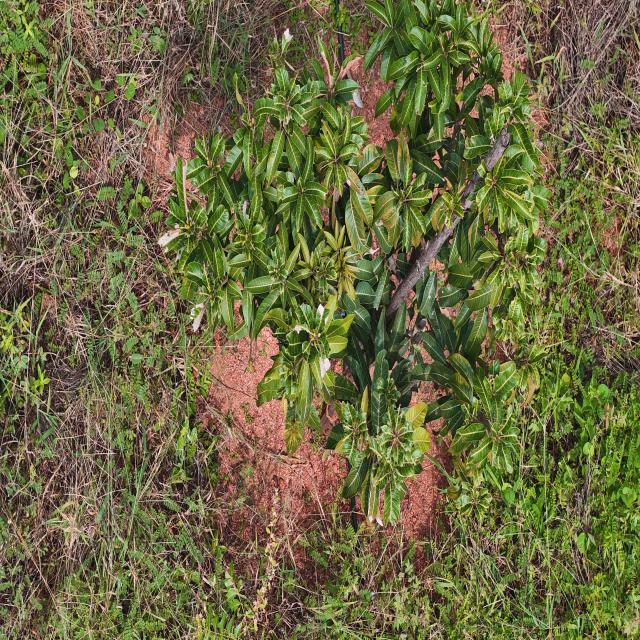mangoTree: (164, 0, 555, 527)
